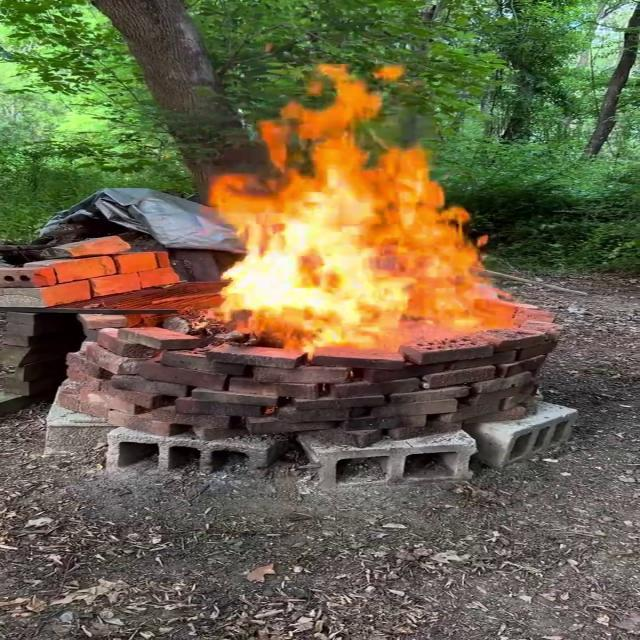Fire: (194, 59, 530, 354)
